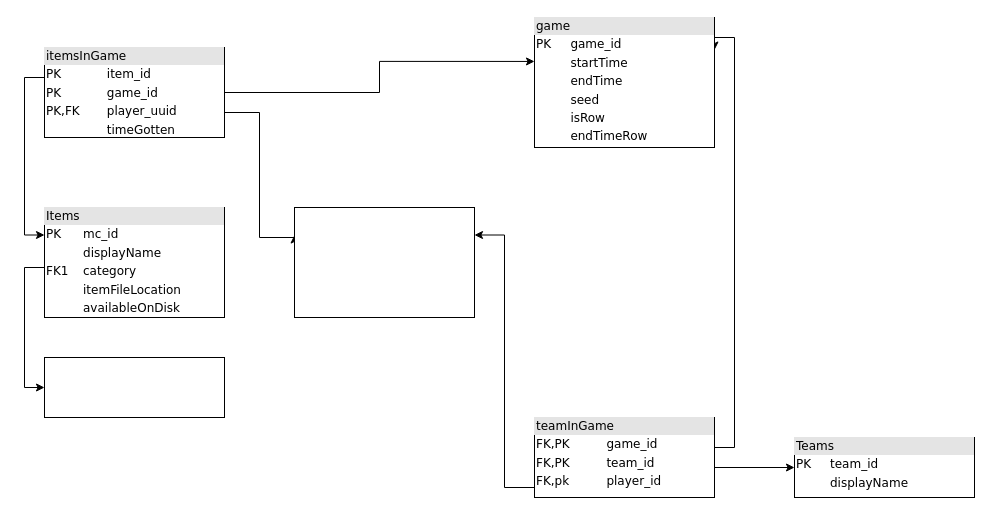
This 992x515 diagram has some shape labels left out. The centre of each missing label's shape, as x and y in pixels:
"categories PK fetchr_name displayName" belongs at [134,387].
"Players PK mc_uuid displayName headFileLocation availableOnDisk" belongs at [384,262].
